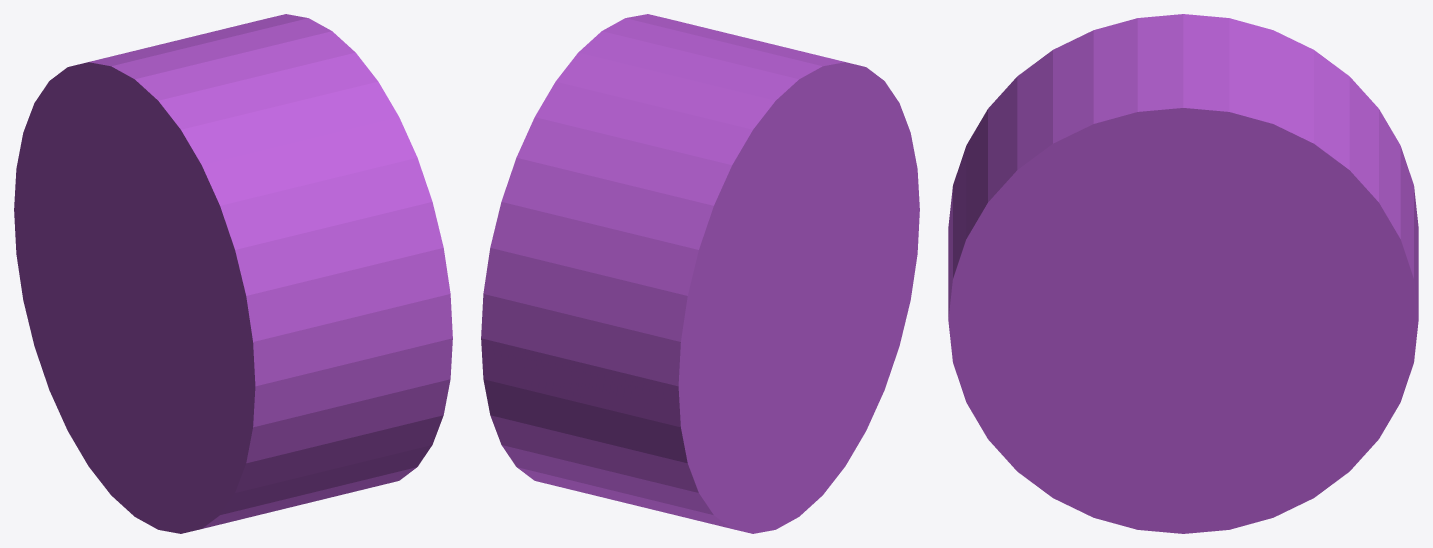
Rendered from waveplate.glb.
3 views of the same model, side by side, from view 1: azimuth 30°, elevation 25°; view 2: azimuth 150°, elevation 25°; view 3: azimuth 270°, elevation 25° (orthographic). The views are drawn at different scales.
Visible parts, largest first — view 1: waveplate; view 2: waveplate; view 3: waveplate.
Boxes of the visible parts, x1,y1,x2,y2 form: waveplate: [14, 14, 452, 533]; waveplate: [481, 14, 919, 533]; waveplate: [948, 14, 1418, 533].
Bounding box in the file's own units: 6 × 12.7 × 12.7.
